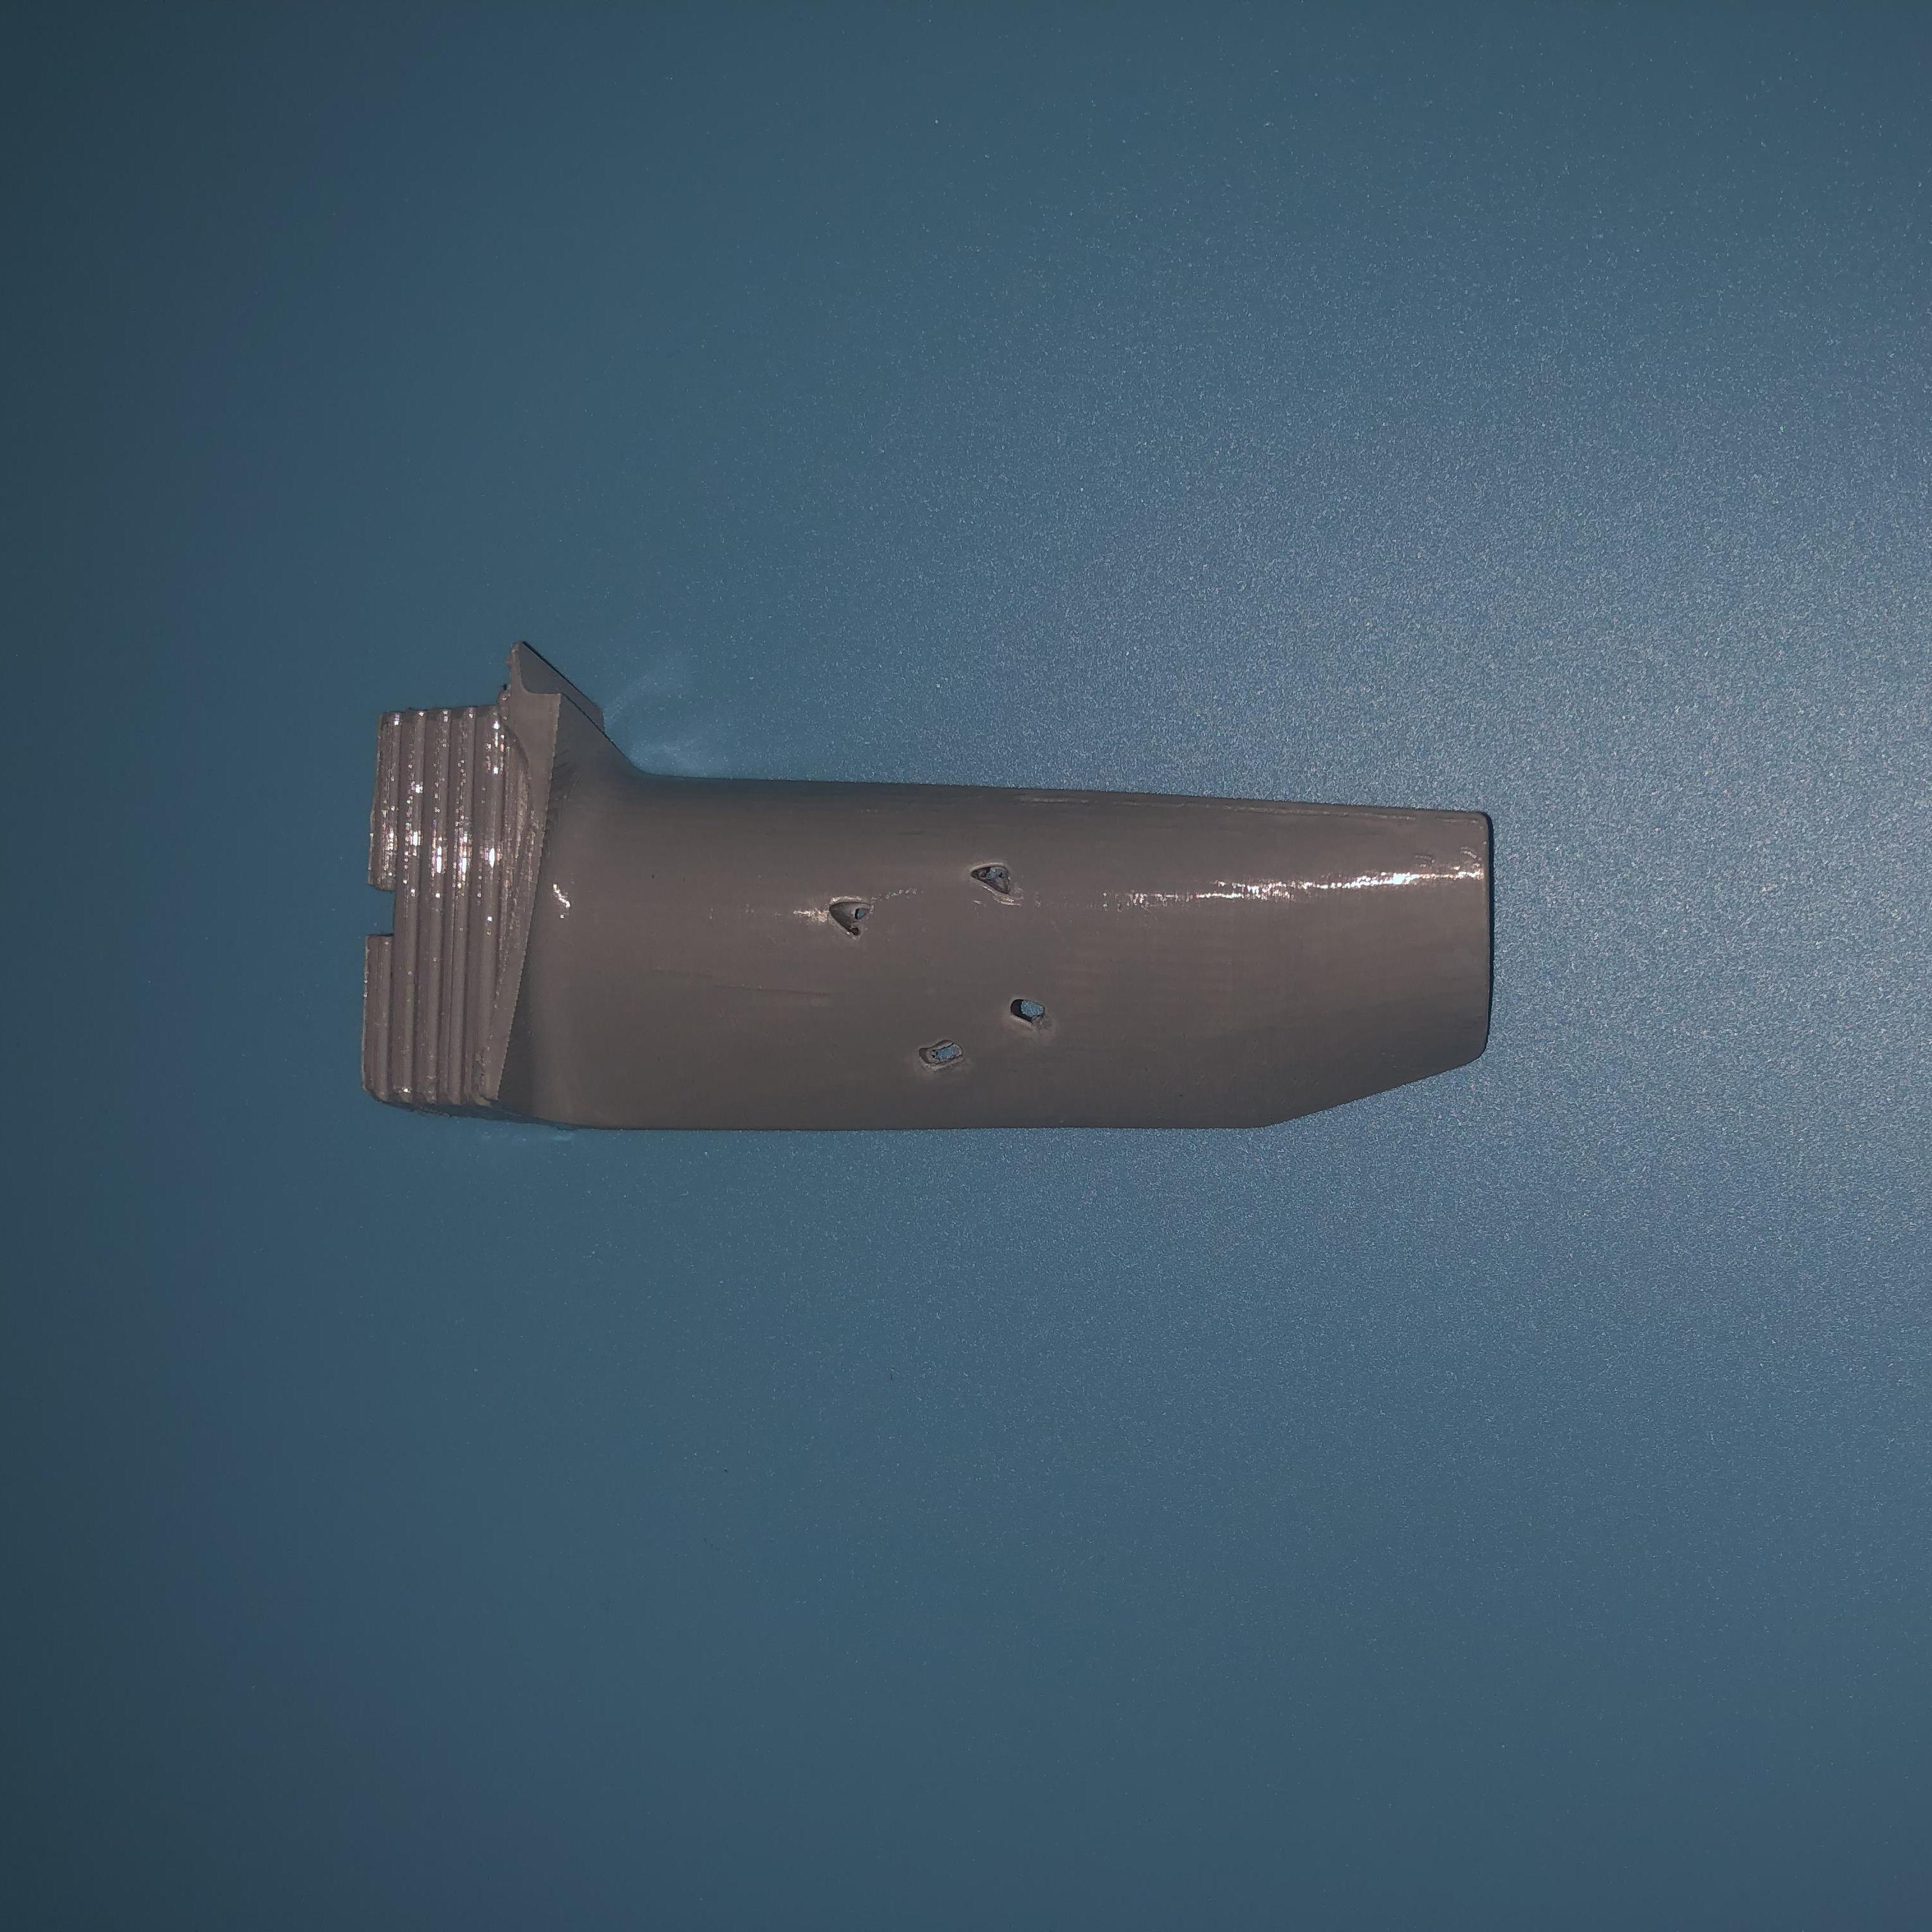breakdown: (821, 860, 1074, 1076)
